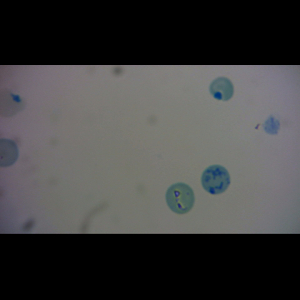aggregate reticulocyte: (201, 164, 232, 196)
erythrocyte: (165, 183, 195, 215), (208, 76, 235, 103)
